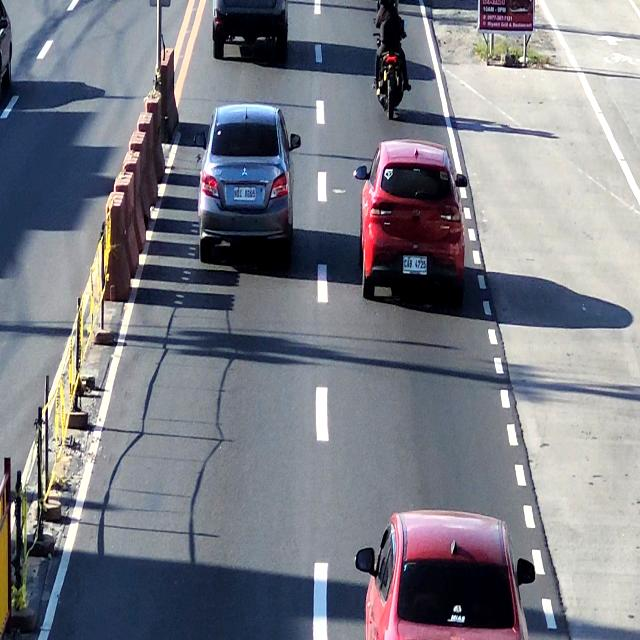Car: (367, 510, 524, 640), (361, 136, 468, 302), (198, 100, 294, 265), (208, 0, 288, 62)
License-Plate: (402, 254, 428, 277), (234, 186, 256, 202)
Motorcycle: (370, 0, 407, 121)
